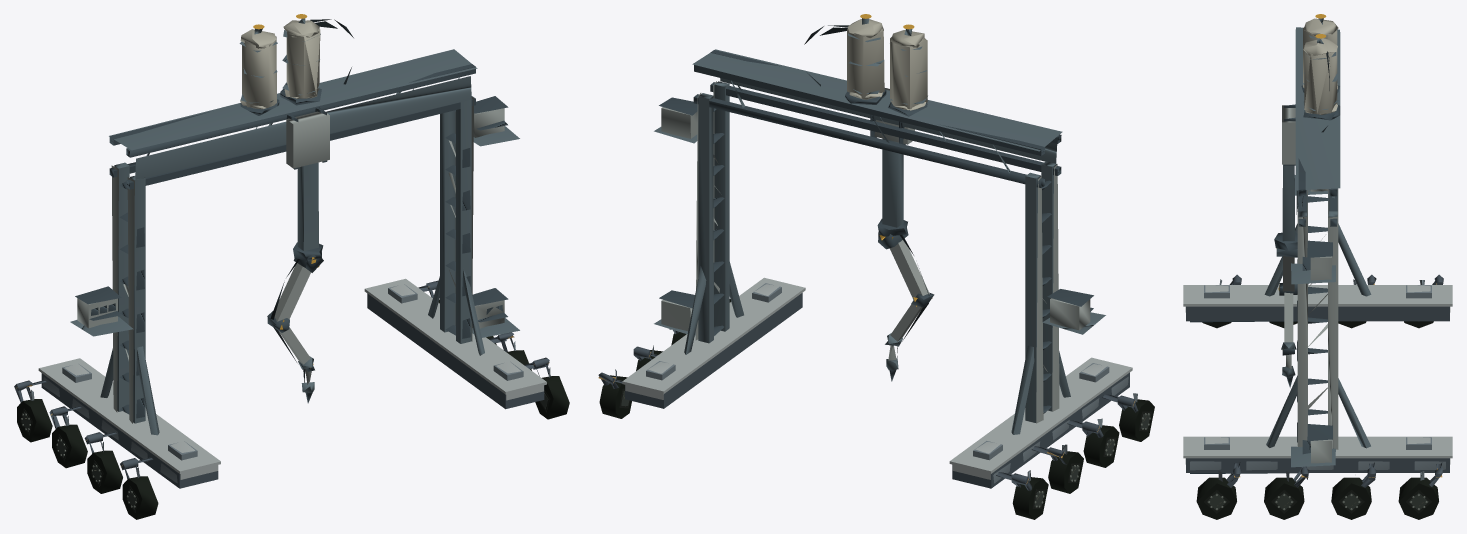
Rendered from stalheart_kidou_d0_lod2.glb.
The picture shows the model from 3 angles, left to right: view 1: azimuth 30°, elevation 25°; view 2: azimuth 150°, elevation 25°; view 3: azimuth 270°, elevation 25°; orthographic projection. The views are drawn at different scales.
Parts seen in each view (by area): view 1: KIDOU_STATIC_SURFACE; view 2: KIDOU_STATIC_SURFACE; view 3: KIDOU_STATIC_SURFACE.
Part boxes in pixels (left/top/right/bottom): KIDOU_STATIC_SURFACE: left=14, top=14, right=569, bottom=519; KIDOU_STATIC_SURFACE: left=598, top=14, right=1154, bottom=519; KIDOU_STATIC_SURFACE: left=1183, top=14, right=1452, bottom=519.
Bounding box in the file's own units: 42.13 × 38.26 × 24.
